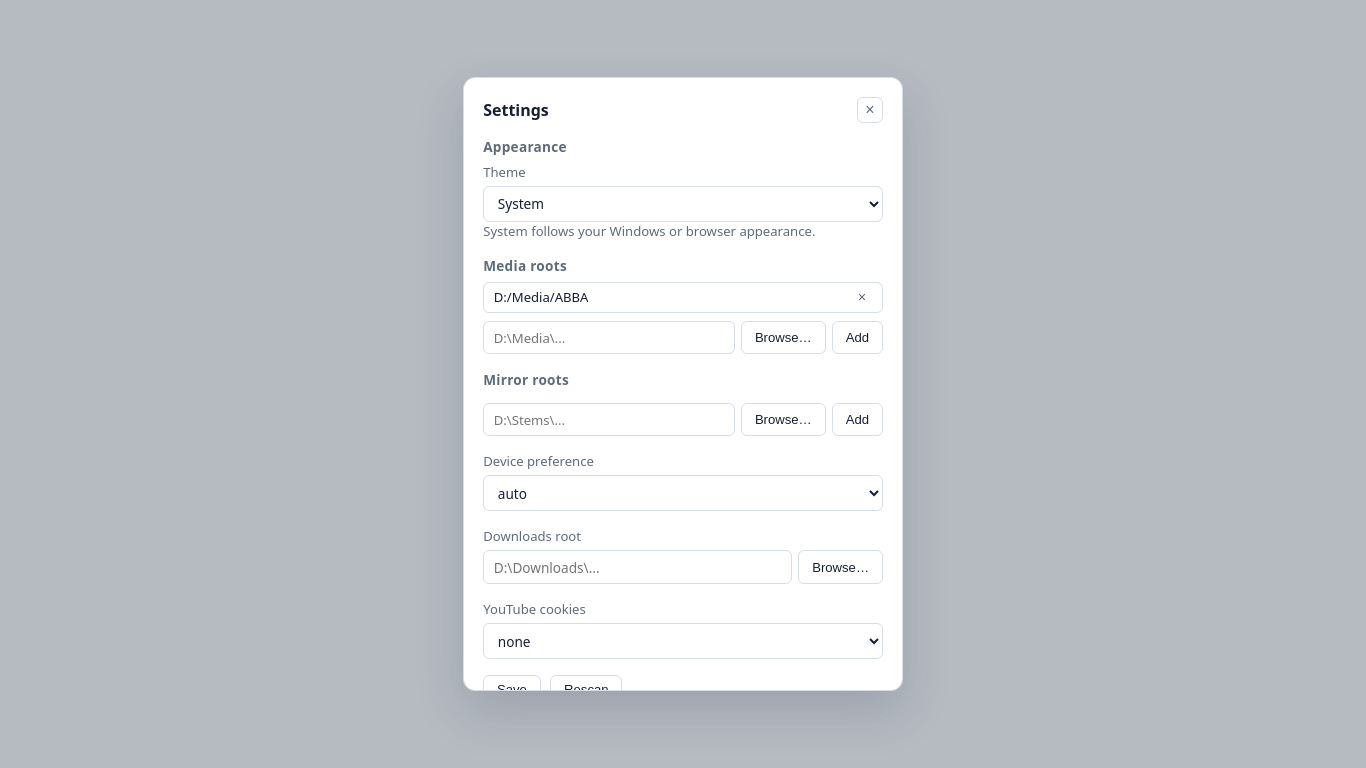
it: SettingsDialog › removes a media root
Expected: the text "D:/Media/ABBA" is shown, [494, 288, 588, 306]
Click the button named "Remove D:/Media/ABBA": point(862, 297) [852, 289, 872, 306]
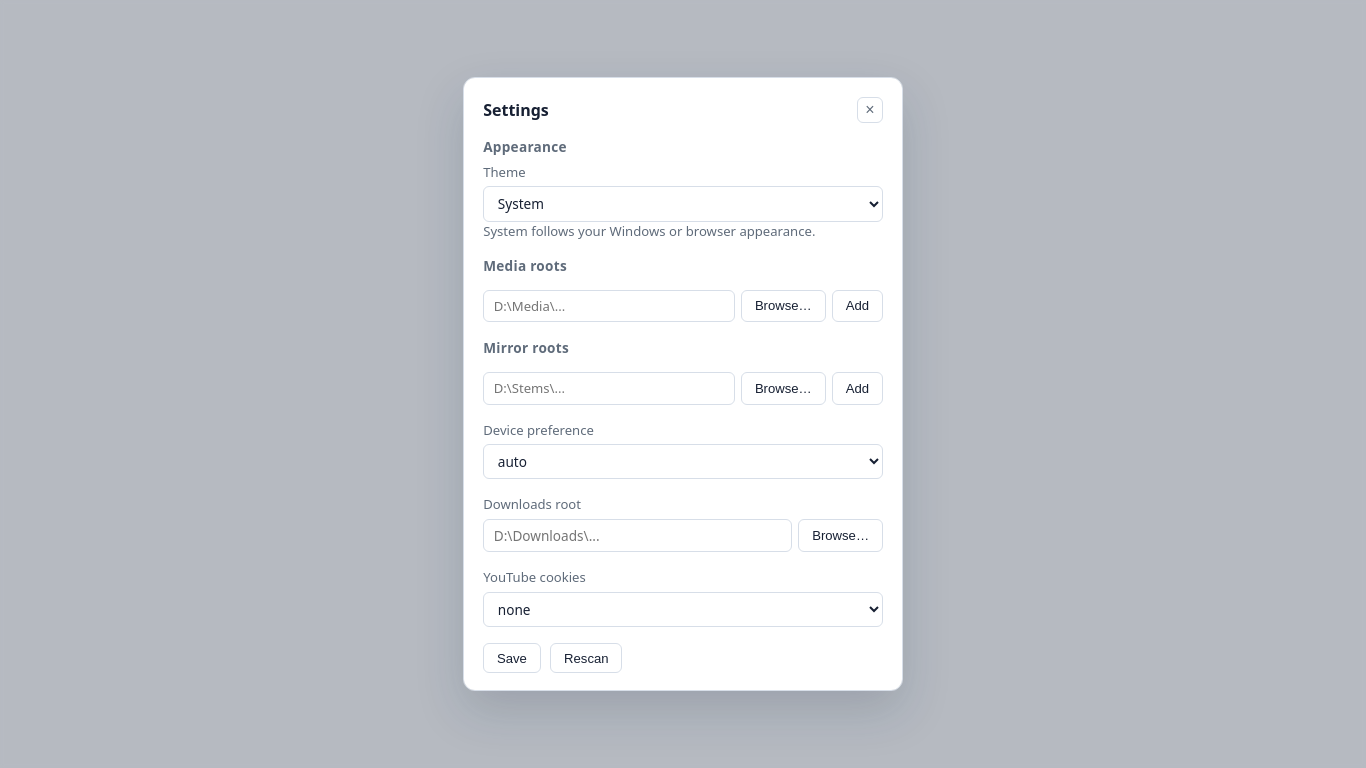
Result: the text "D:/Media/ABBA" is gone
